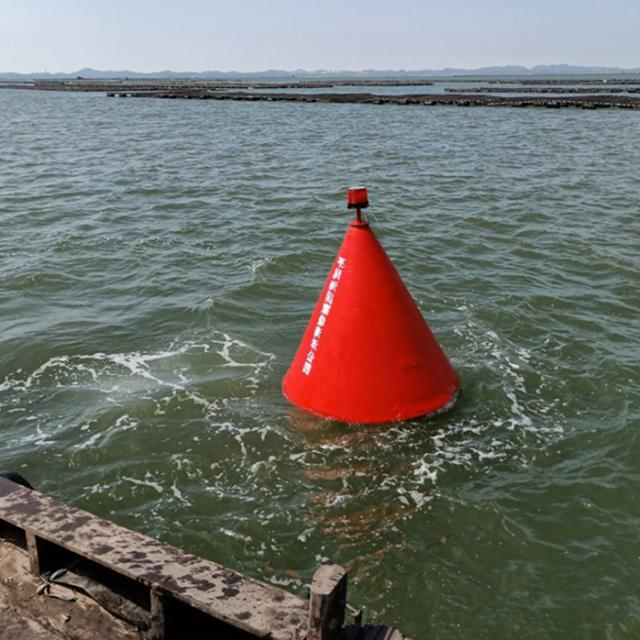buoy: (282, 184, 468, 424)
